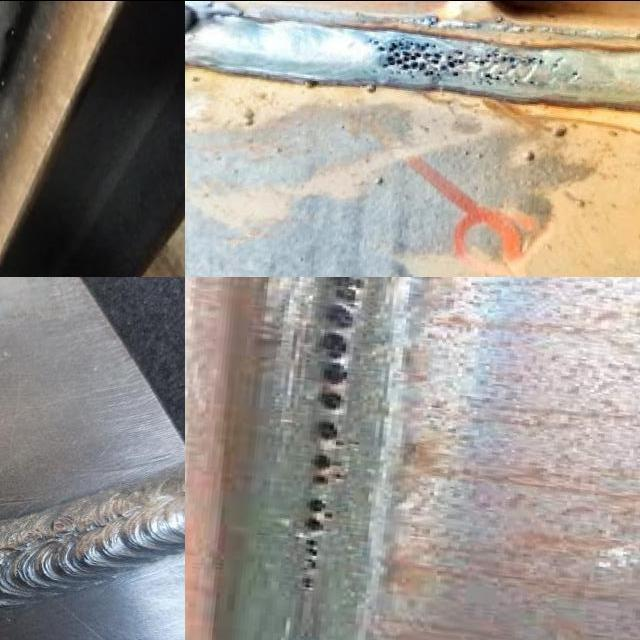defect: (304, 276, 368, 488), (469, 46, 584, 89), (364, 34, 470, 80), (297, 493, 337, 596), (51, 515, 76, 532), (18, 529, 42, 546), (4, 26, 19, 44), (0, 74, 7, 95)
